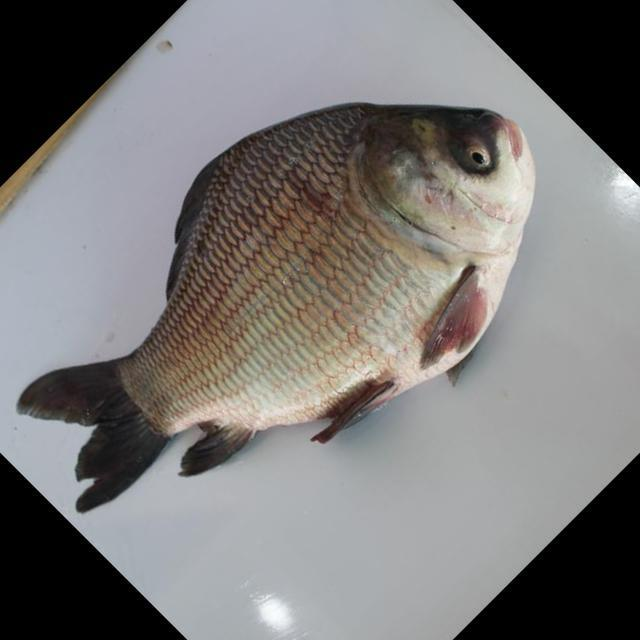Catla: (14, 85, 543, 511)
